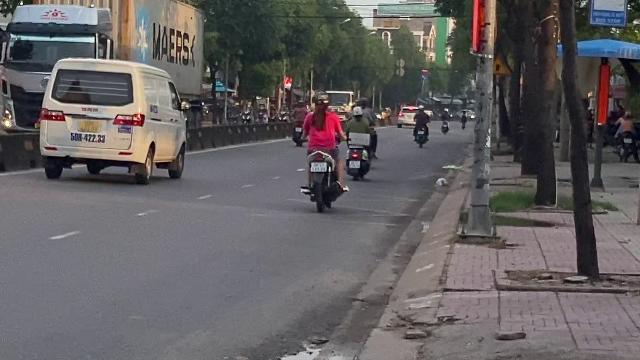helmet: (297, 90, 347, 210)
licenseplate: (310, 162, 326, 172)
nohelmet: (312, 90, 331, 110)
